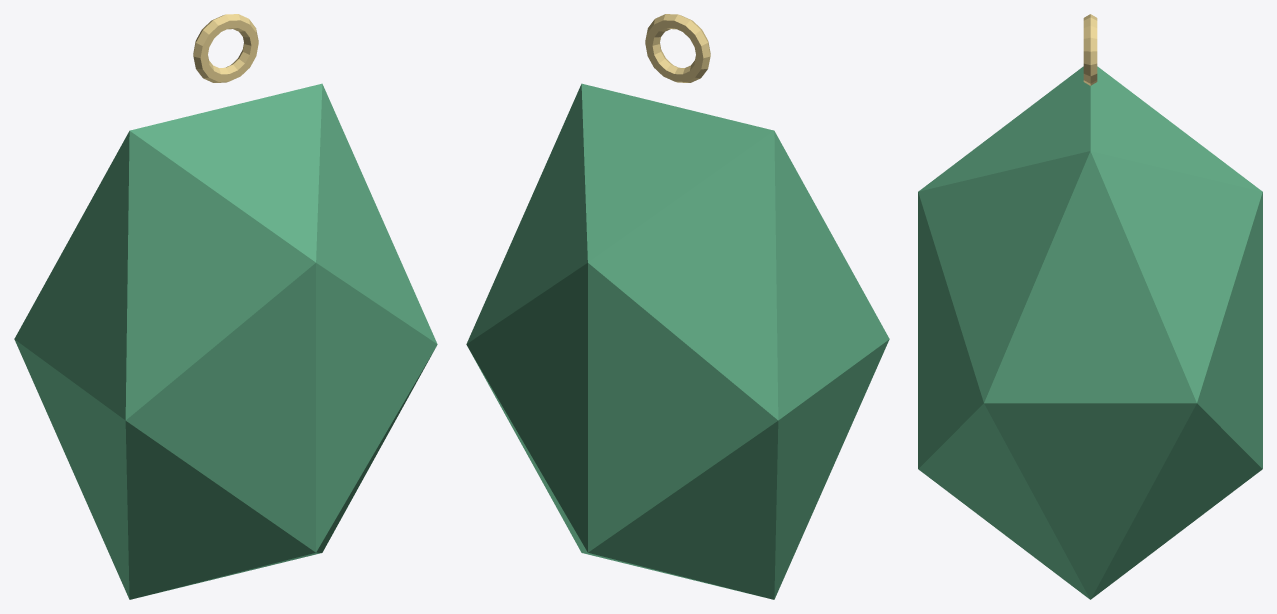
The model's file is gem-green-1_5in.glb.
3 renders of one model, left to right at view 1: azimuth 30°, elevation 25°; view 2: azimuth 150°, elevation 25°; view 3: azimuth 270°, elevation 25°, orthographic. The views are drawn at different scales.
Parts seen in each view (by area): view 1: gem; view 2: gem; view 3: gem.
Boxes of the visible parts, x1,y1,x2,y2 form: gem: [14, 14, 437, 599]; gem: [466, 14, 889, 599]; gem: [918, 14, 1262, 599].
Bounding box in the file's own units: 0.0221 × 0.0381 × 0.0221.
